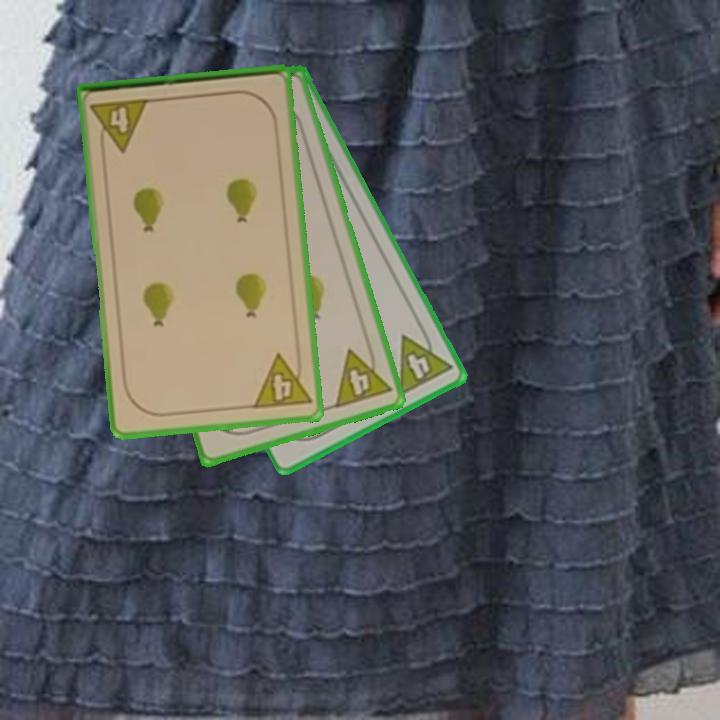4p: (395, 322, 455, 399), (331, 340, 395, 411), (249, 349, 314, 412), (87, 95, 152, 156)
